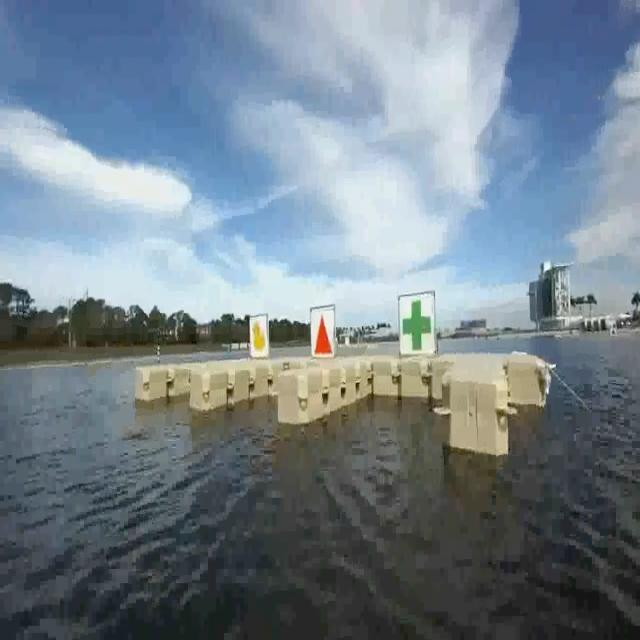blue-cross: (397, 293, 434, 361)
red-dot: (308, 310, 334, 362)
yellow-duck: (248, 316, 270, 356)
